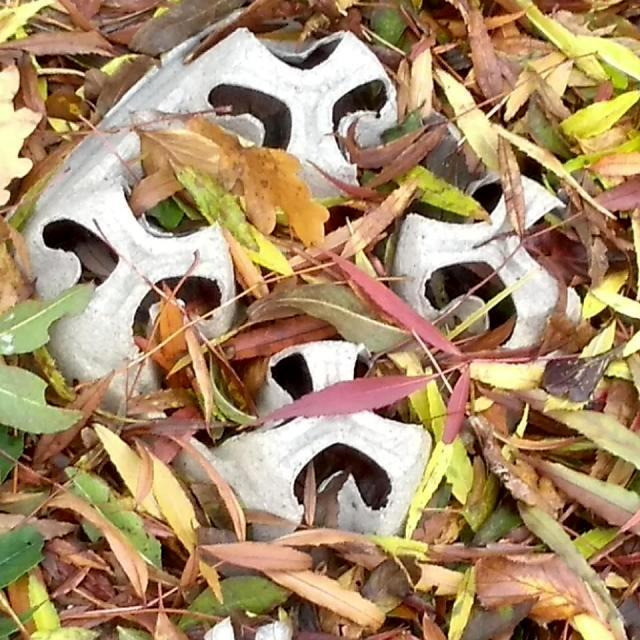Paper: (0, 0, 589, 568)
